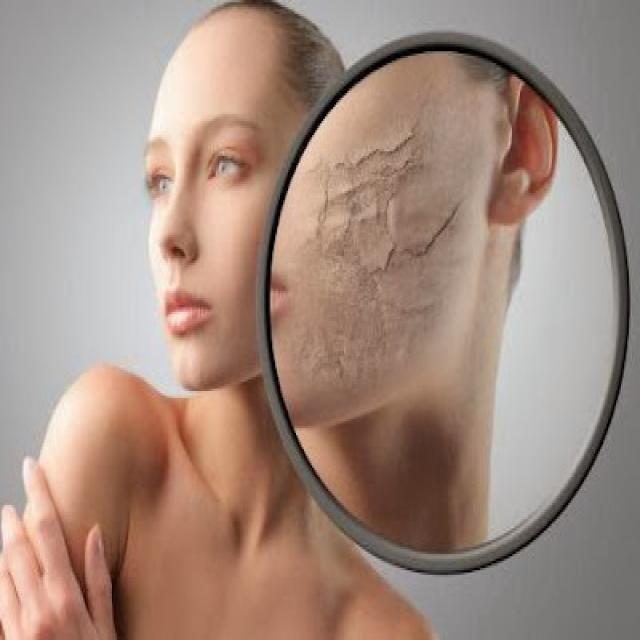Dry-Skin: (299, 76, 468, 392)
